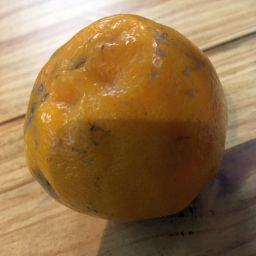Unripe: (25, 13, 228, 223)
